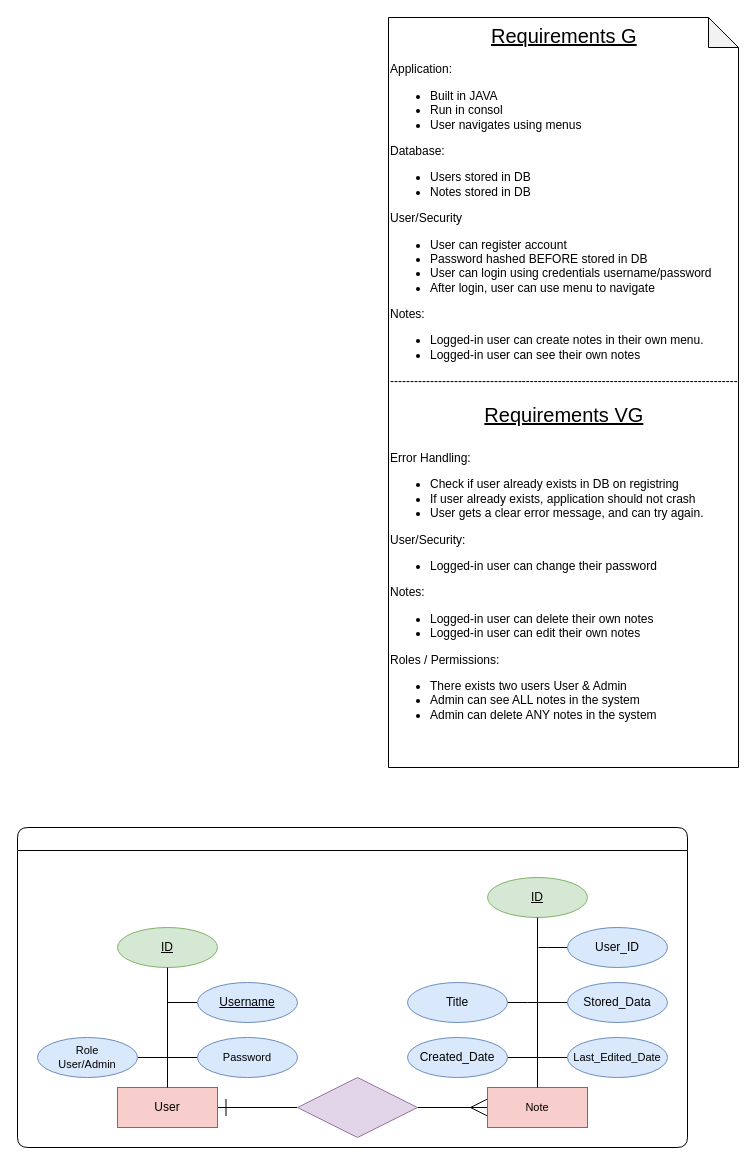
This 756x1165 diagram has some shape labels left out. The shapes that lost their labels are listed below. From the top down, each one's box as (x1, y1, x2, y2) in pixels, then its label:
(16, 826, 688, 1148): Secure Notes - Database ER Diagram
(296, 1076, 418, 1138): Has
